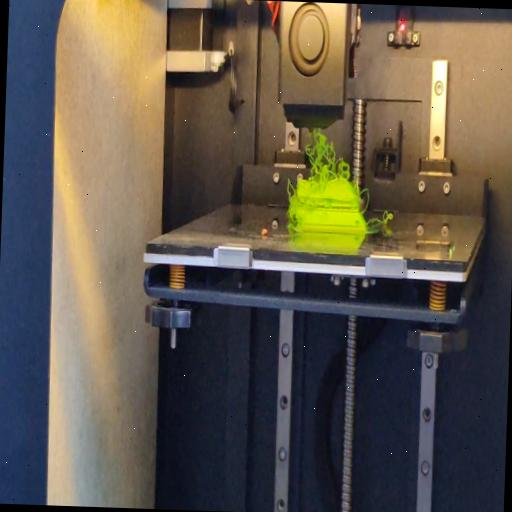spaghetti: (304, 126, 353, 186), (364, 210, 394, 230), (360, 184, 370, 210), (286, 222, 300, 236)
